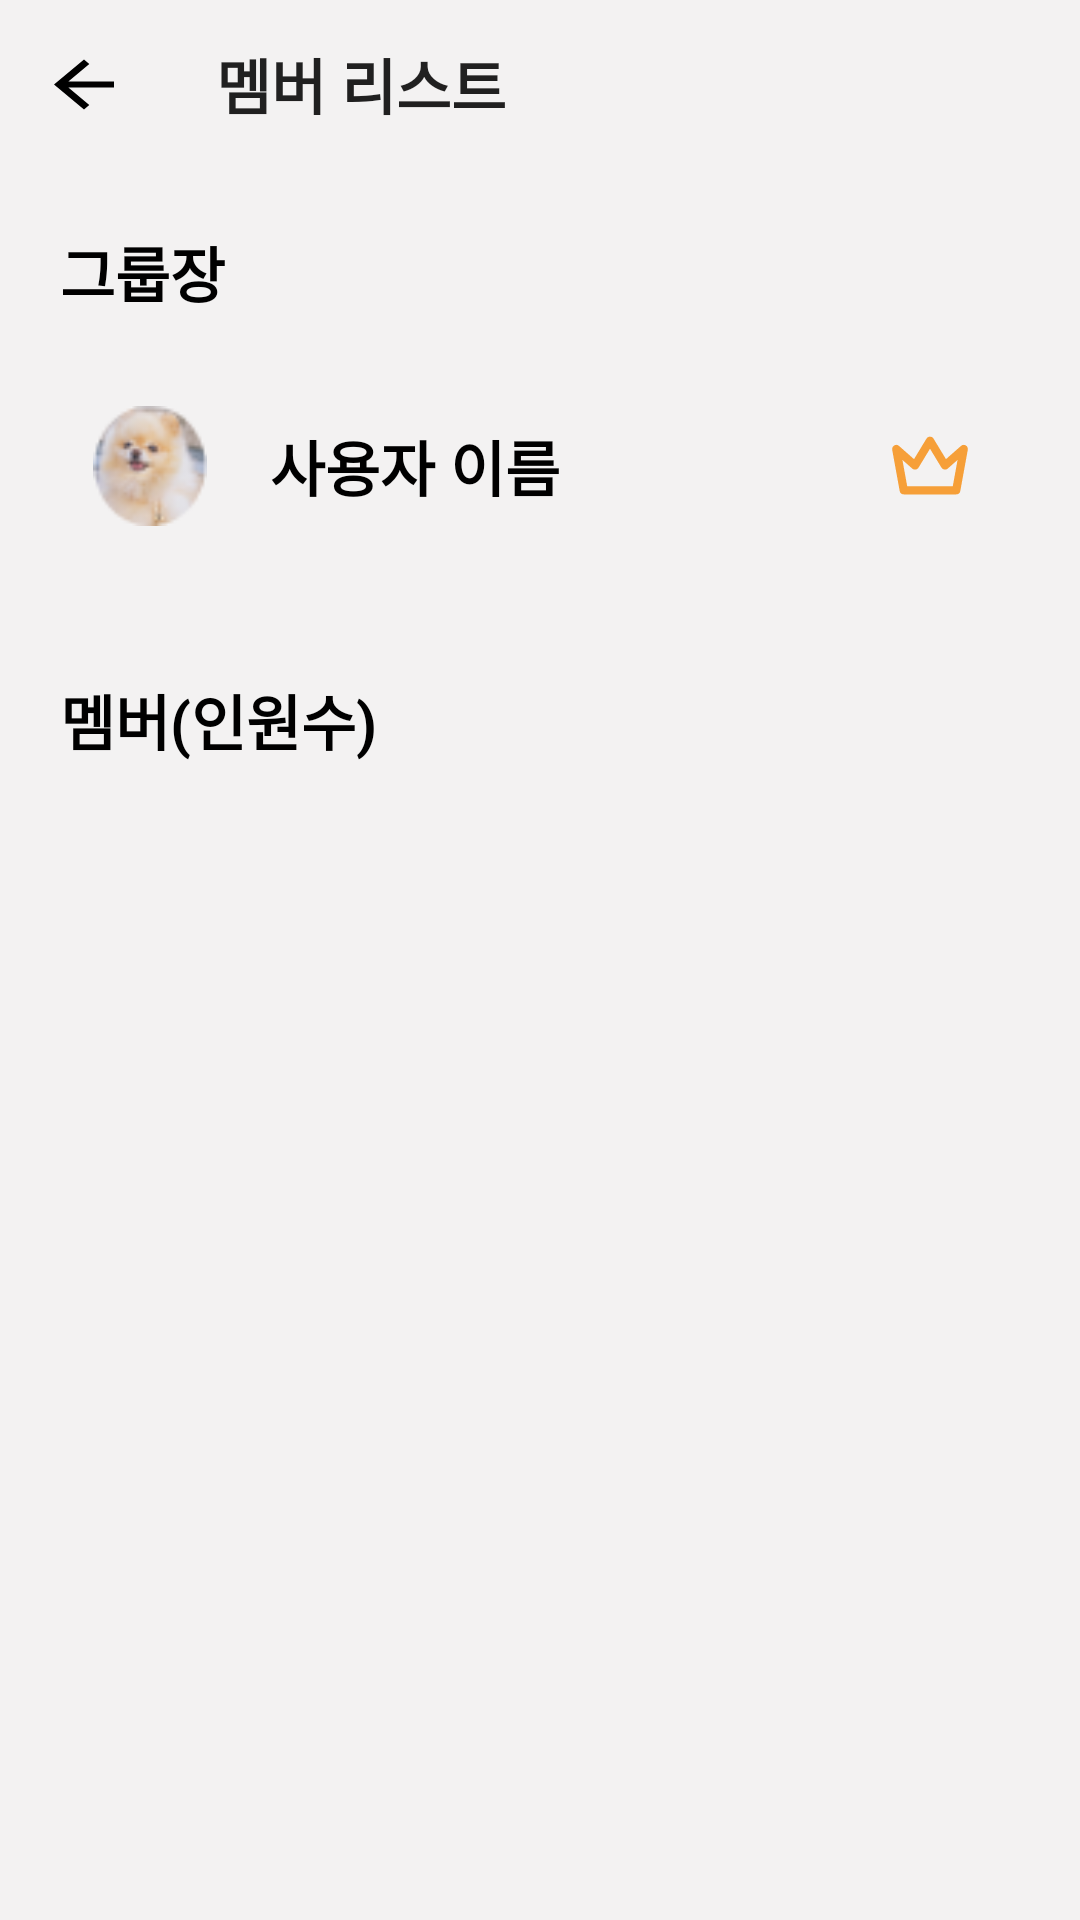

Icon bounding boxes for this 1080 × 1920 phone screenshot, format (x1, y1, x2, y2):
crown: (892, 436, 968, 495)
profile: (93, 406, 207, 526)
